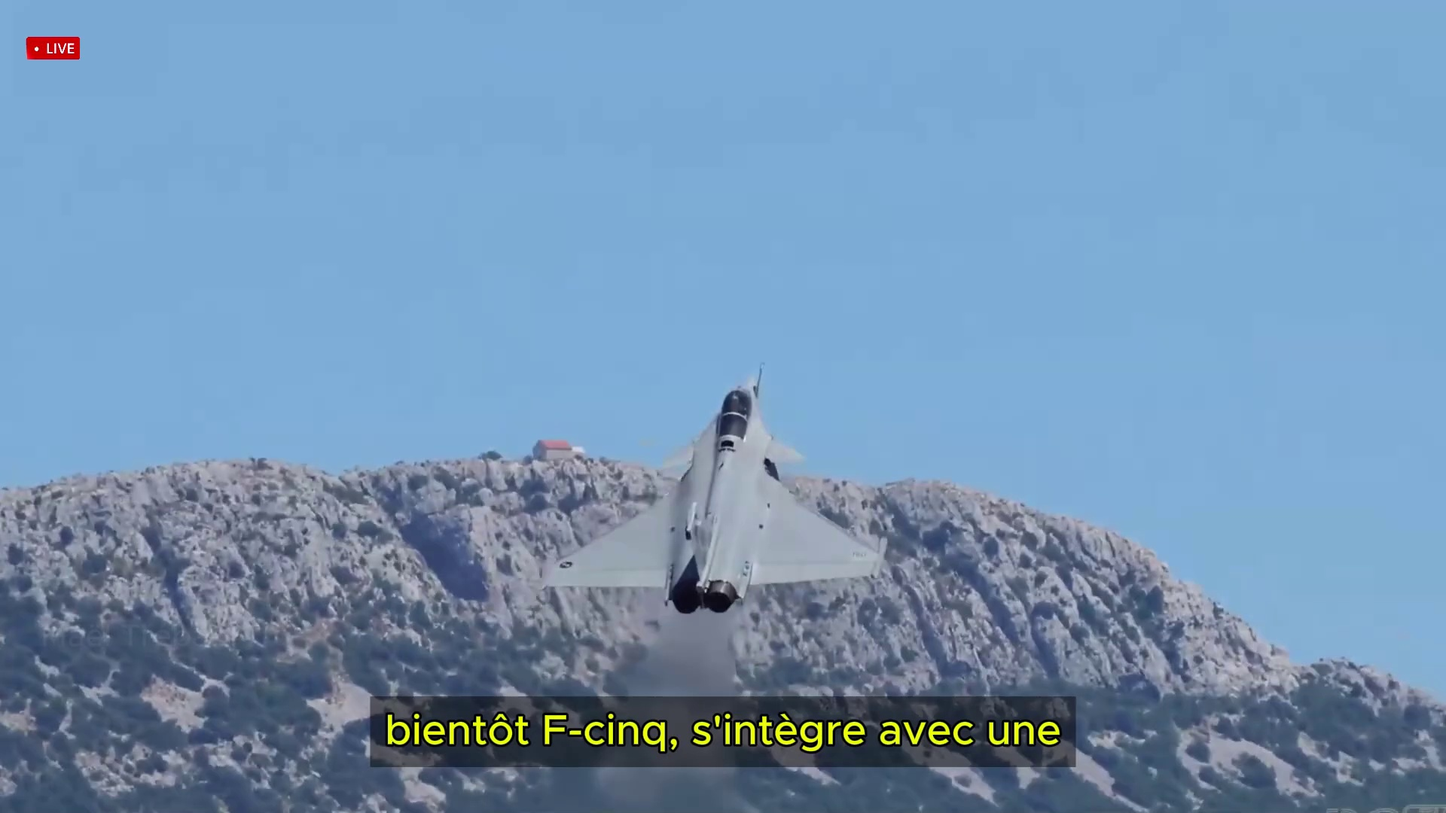Rafale: (540, 370, 878, 620)
